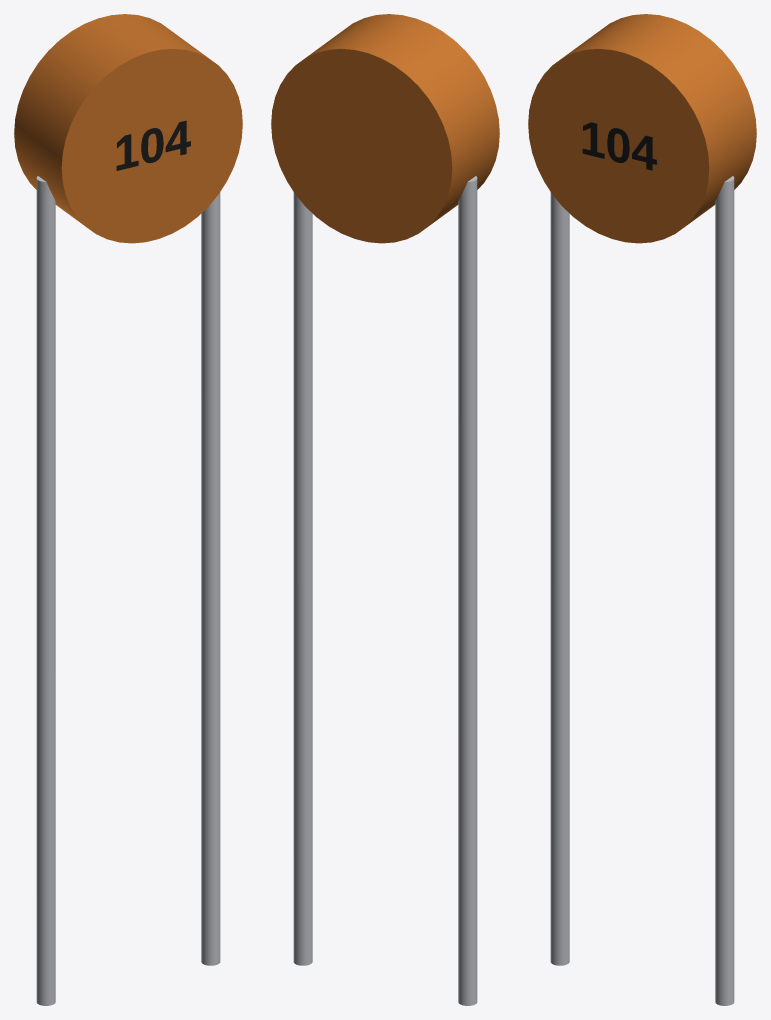
File: capacitor-ceramic-disc.glb
3 renders of one model, left to right at view 1: azimuth 30°, elevation 25°; view 2: azimuth 150°, elevation 25°; view 3: azimuth 330°, elevation 25°, orthographic.
Parts seen in each view (by area): view 1: object 1, lead-1, lead-2, object 4; view 2: object 1, lead-1, lead-2; view 3: object 1, lead-2, lead-1, object 4.
Boxes of the visible parts, bbox=[...] form: object 1: bbox=[14, 14, 242, 243]; lead-1: bbox=[36, 176, 55, 1005]; lead-2: bbox=[201, 192, 220, 965]; object 4: bbox=[116, 120, 190, 170]; object 1: bbox=[271, 14, 499, 243]; lead-1: bbox=[458, 176, 477, 1005]; lead-2: bbox=[293, 192, 312, 965]; object 1: bbox=[528, 14, 756, 243]; lead-2: bbox=[715, 176, 734, 1005]; lead-1: bbox=[550, 192, 569, 965]; object 4: bbox=[582, 122, 656, 170].
Size of the model in its own units: 0.0055 by 0.0275 by 0.00252.
